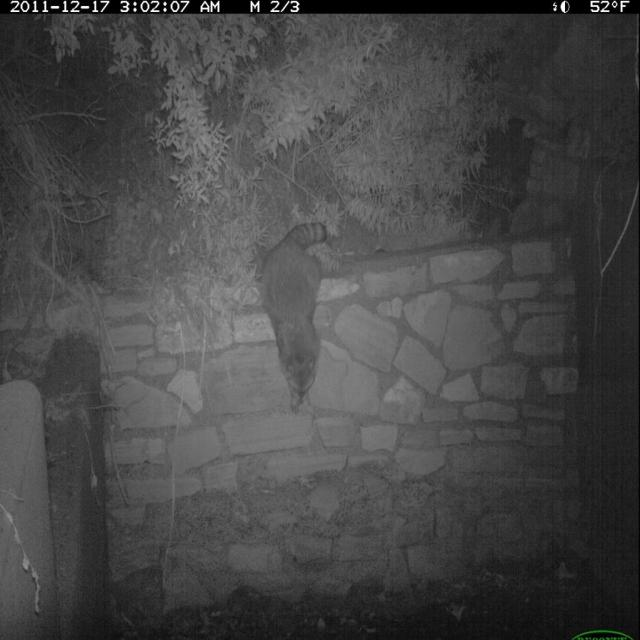raccoon: (255, 218, 338, 422)
